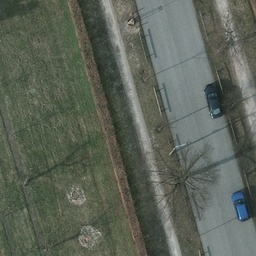car: (205, 84, 225, 116), (230, 189, 250, 221)
